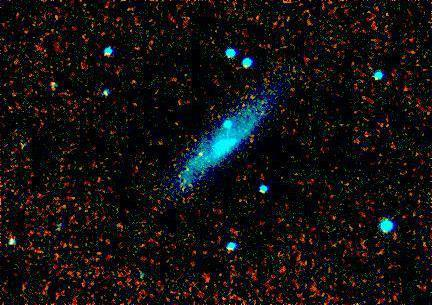star: (188, 140, 218, 170)
